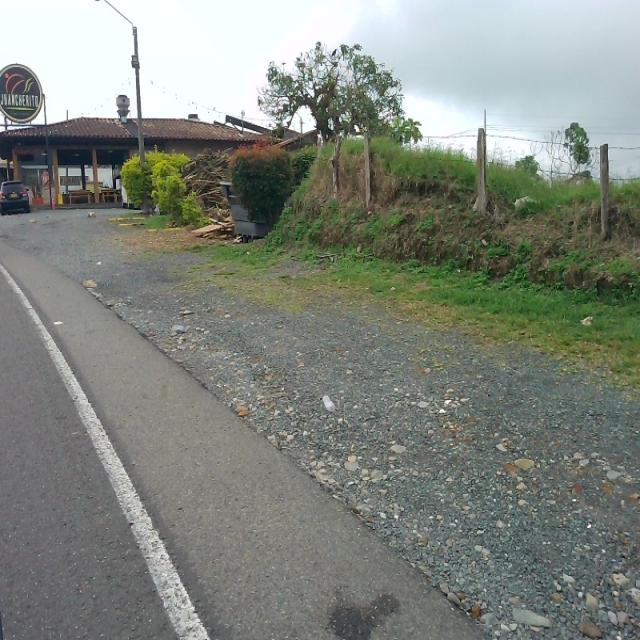DITCH: (4, 210, 638, 638)
